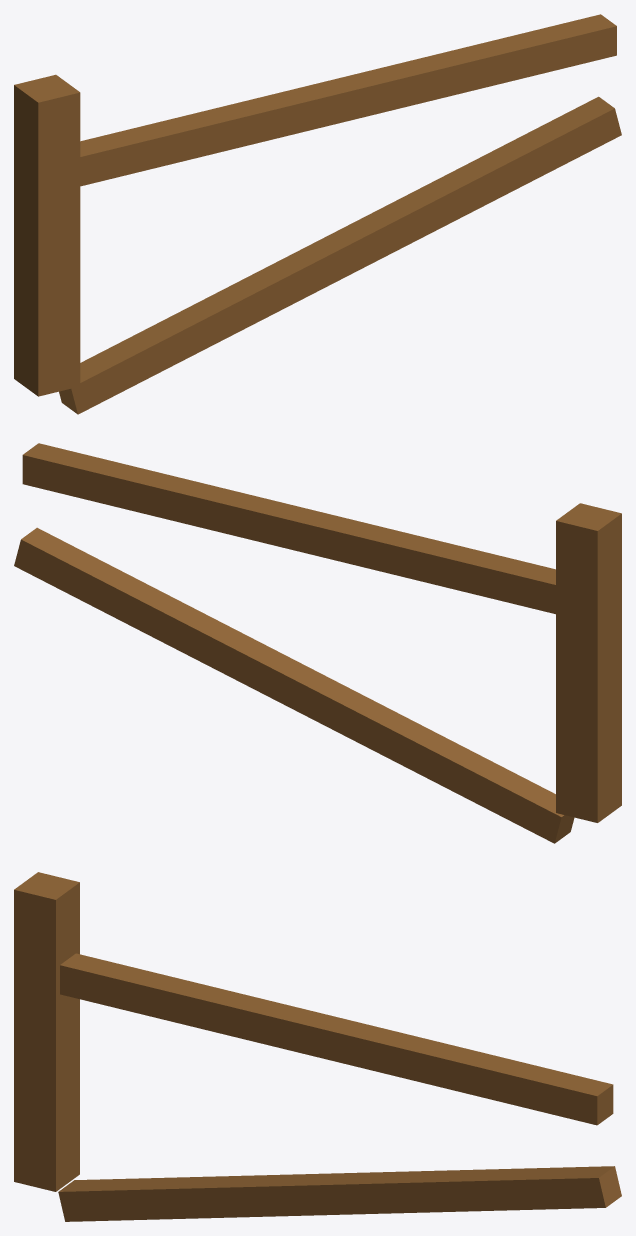
The model's file is VallaD.fbx.
3 views of the same model, one above another, from view 1: azimuth 30°, elevation 25°; view 2: azimuth 150°, elevation 25°; view 3: azimuth 330°, elevation 25° (orthographic).
Visible parts, largest first — view 1: VallaD; view 2: VallaD; view 3: VallaD.
Part boxes in pixels (box(x1,y1,x2,y2)): VallaD: box(14, 14, 621, 414); VallaD: box(14, 443, 621, 843); VallaD: box(14, 872, 621, 1221).
Bounding box in the file's own units: 157 × 83.54 × 11.25.
